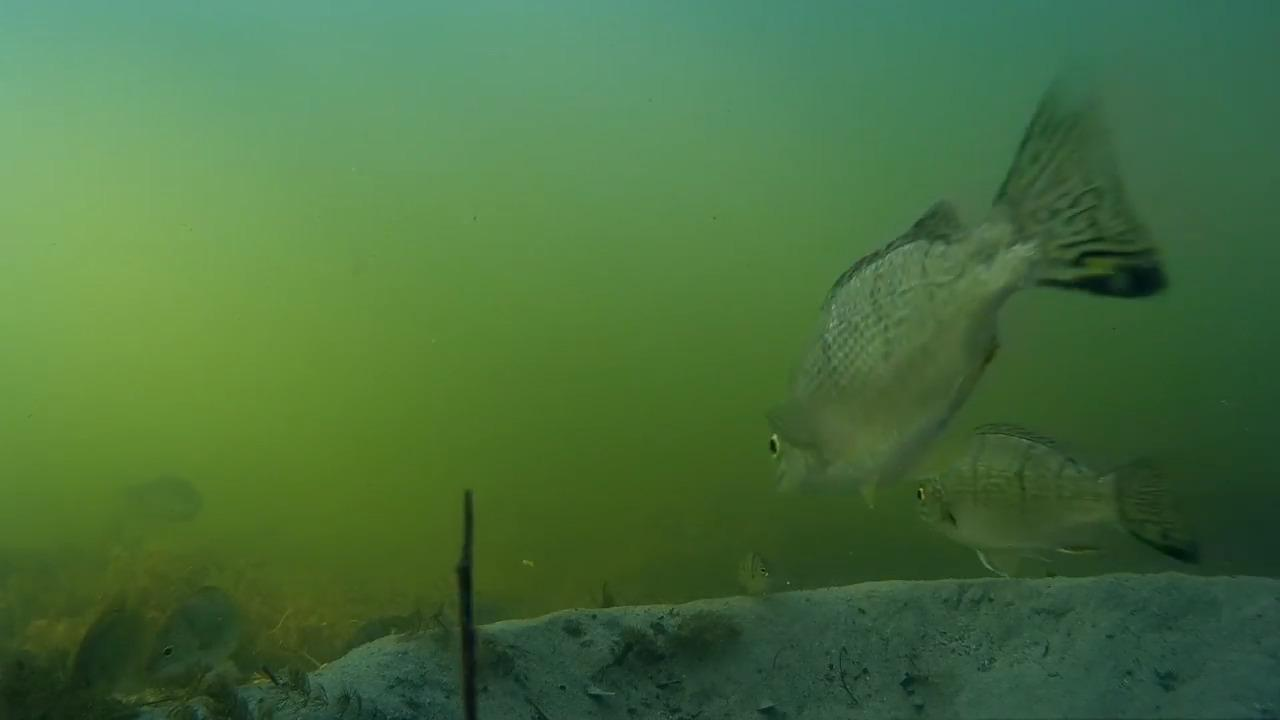Tilapia: (723, 58, 1162, 506), (887, 417, 1177, 568)
